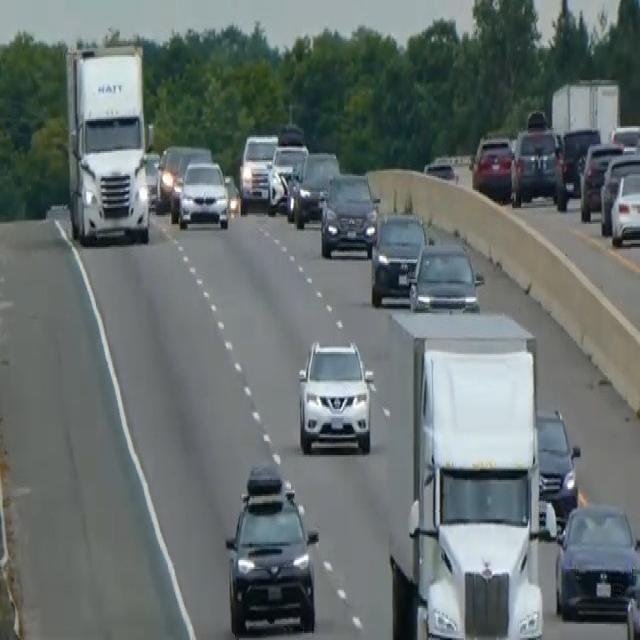car: (554, 500, 639, 620), (297, 336, 374, 455), (370, 208, 427, 306), (408, 240, 483, 313), (535, 406, 580, 526), (319, 169, 379, 258), (285, 150, 340, 228), (510, 125, 560, 206), (156, 142, 211, 212), (555, 124, 600, 208), (177, 158, 229, 230), (578, 138, 623, 220), (266, 132, 308, 215), (238, 132, 278, 208), (470, 133, 514, 201), (610, 167, 639, 247), (155, 142, 184, 208), (625, 537, 639, 638), (423, 155, 458, 183), (143, 150, 160, 207), (610, 121, 639, 153), (223, 171, 241, 217)
jeep: (223, 460, 320, 636)
lorry: (62, 39, 152, 247)
